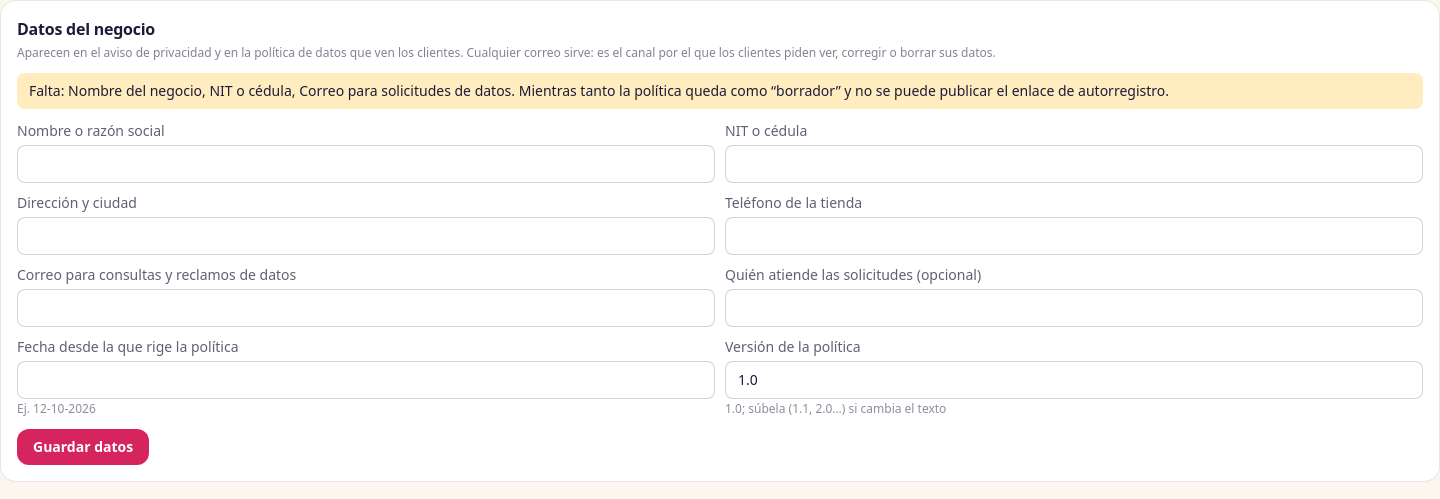
Test: DatosNegocio (HU-07): datos del responsable, editables desde la aplicación › guarda los datos escritos y avisa la versión que quedará en las autorizaciones
Type "Piñatería Demo" into the field labelled "Nombre o razón social" at (366, 164), box 17,145 -> 715,183
Type "900.123.456-7" into the field labelled "NIT o cédula" at (1074, 164), box 725,145 -> 1423,183
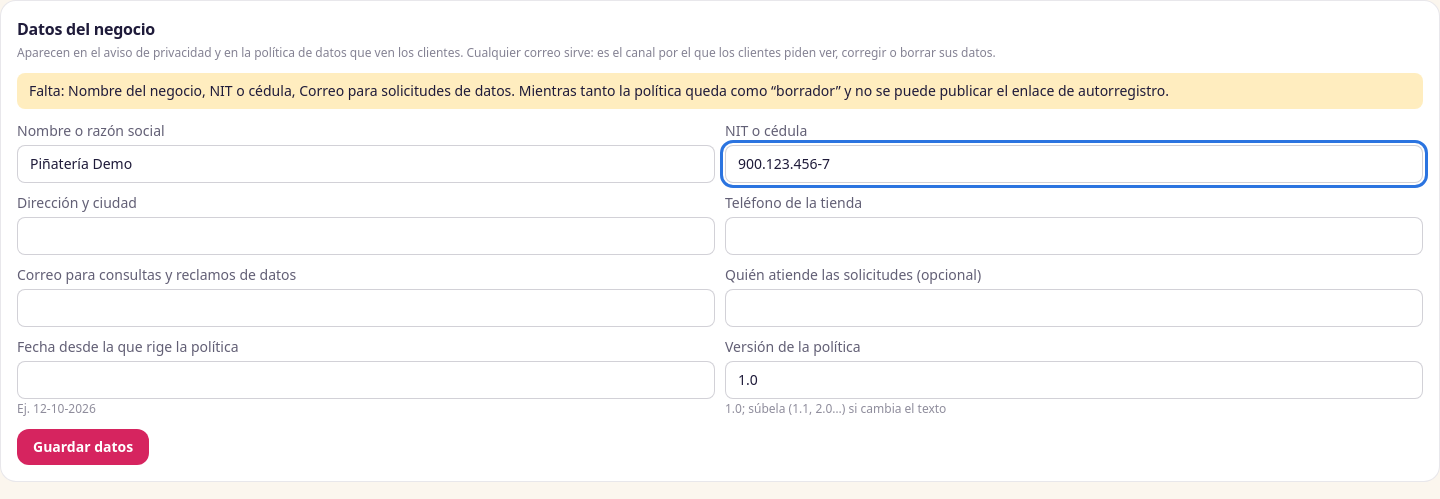
Type "Calle 123 # 45-67, Bogotá" into the field labelled "Dirección y ciudad" at (366, 236), box 17,217 -> 715,255
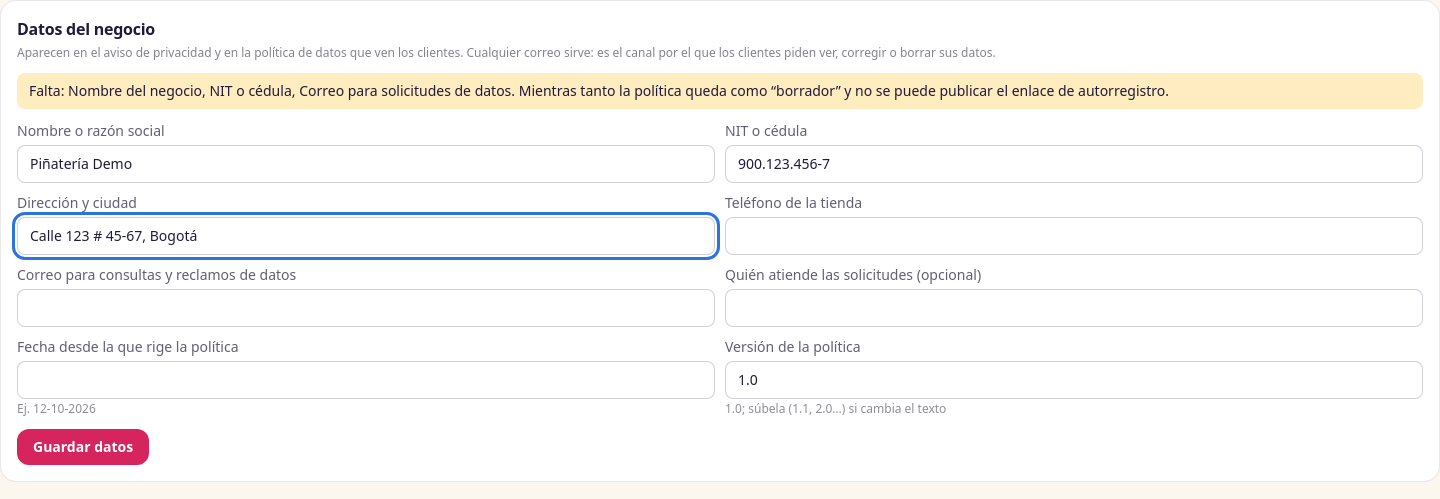
Type "3000000000" into the field labelled "Teléfono de la tienda" at (1074, 236), box 725,217 -> 1423,255
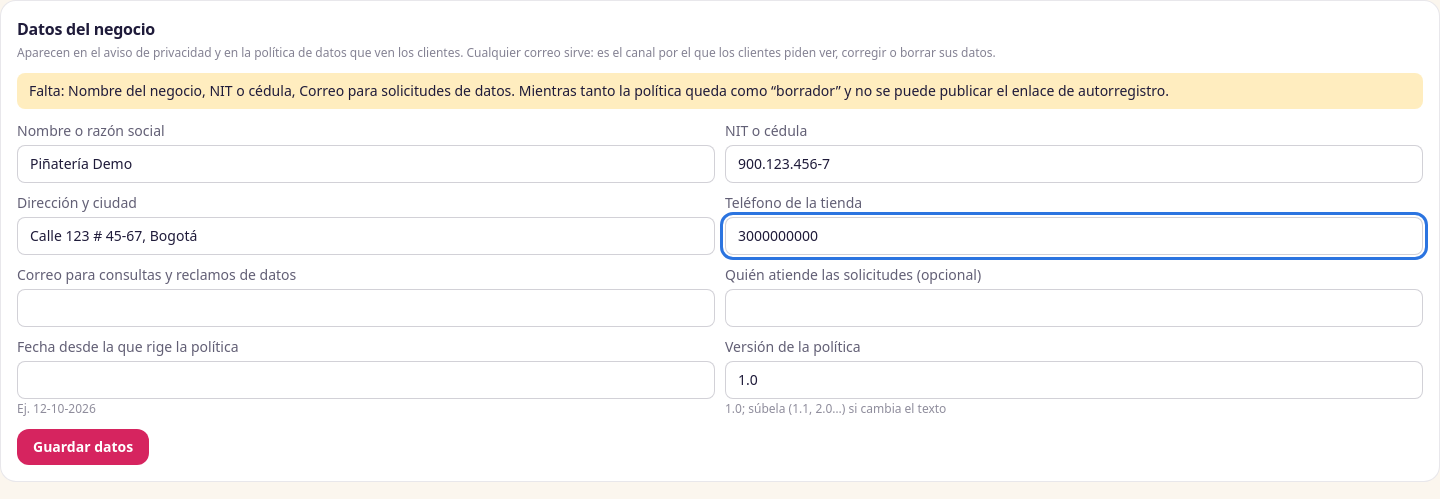
Type "datos@ejemplo.com" into the field labelled "Correo para consultas y reclamos de datos" at (366, 308), box 17,289 -> 715,327
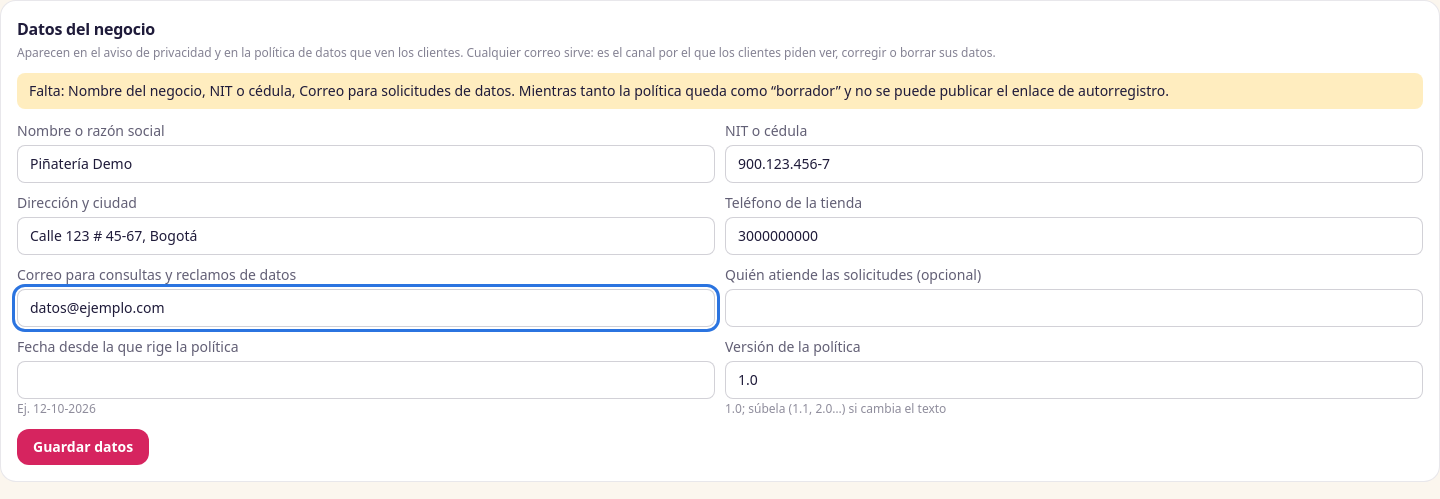
Type "12-10-2026" into the field labelled "Fecha desde la que rige la política Ej. 12-10-2026" at (366, 380), box 17,361 -> 715,399
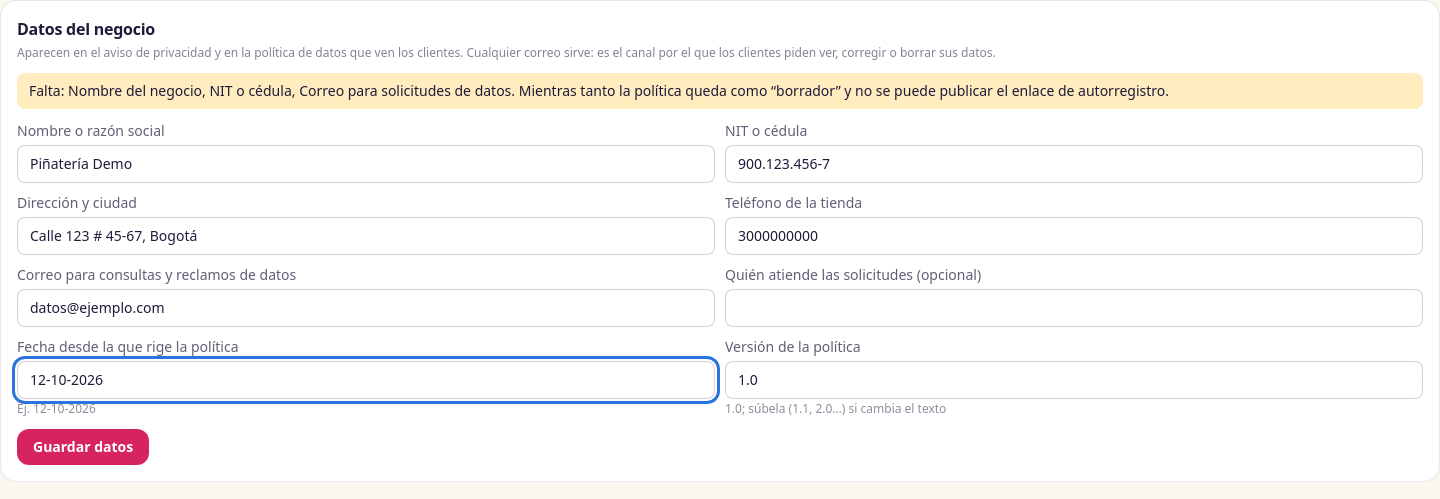
Click the button "Guardar datos" at (83, 447), box 17,429 -> 149,465
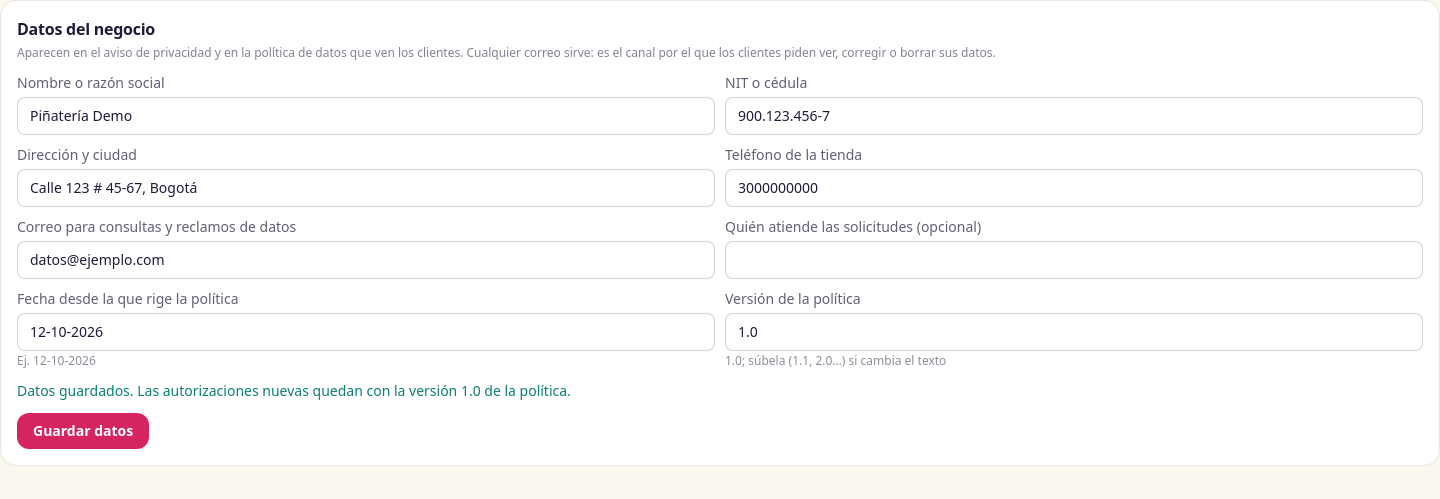
Expected: the message shows "versión 1.0", 17,381 -> 571,400
